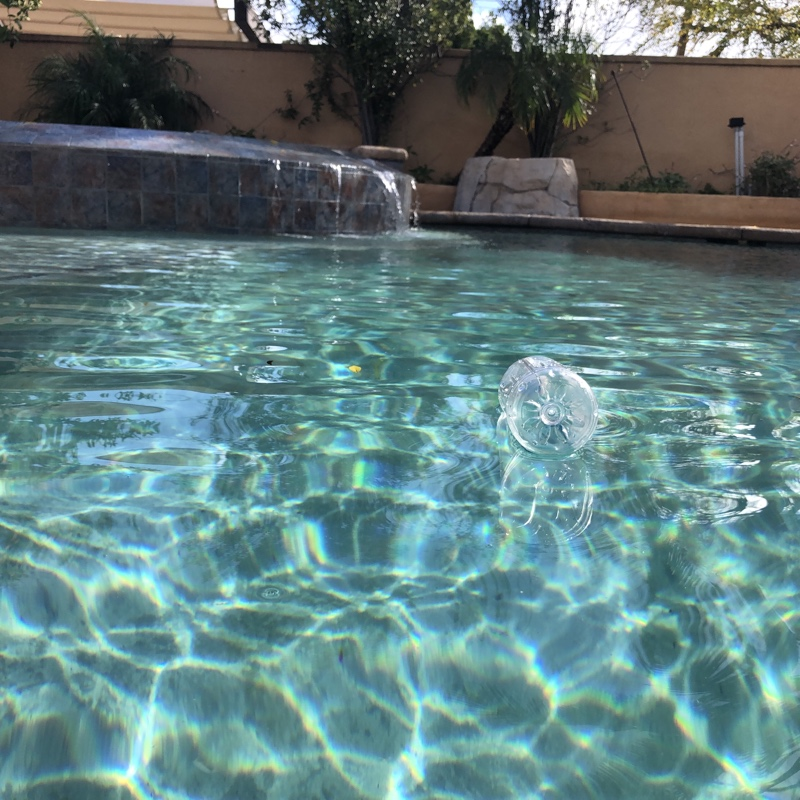Plastic Bottle: (495, 348, 602, 469)
